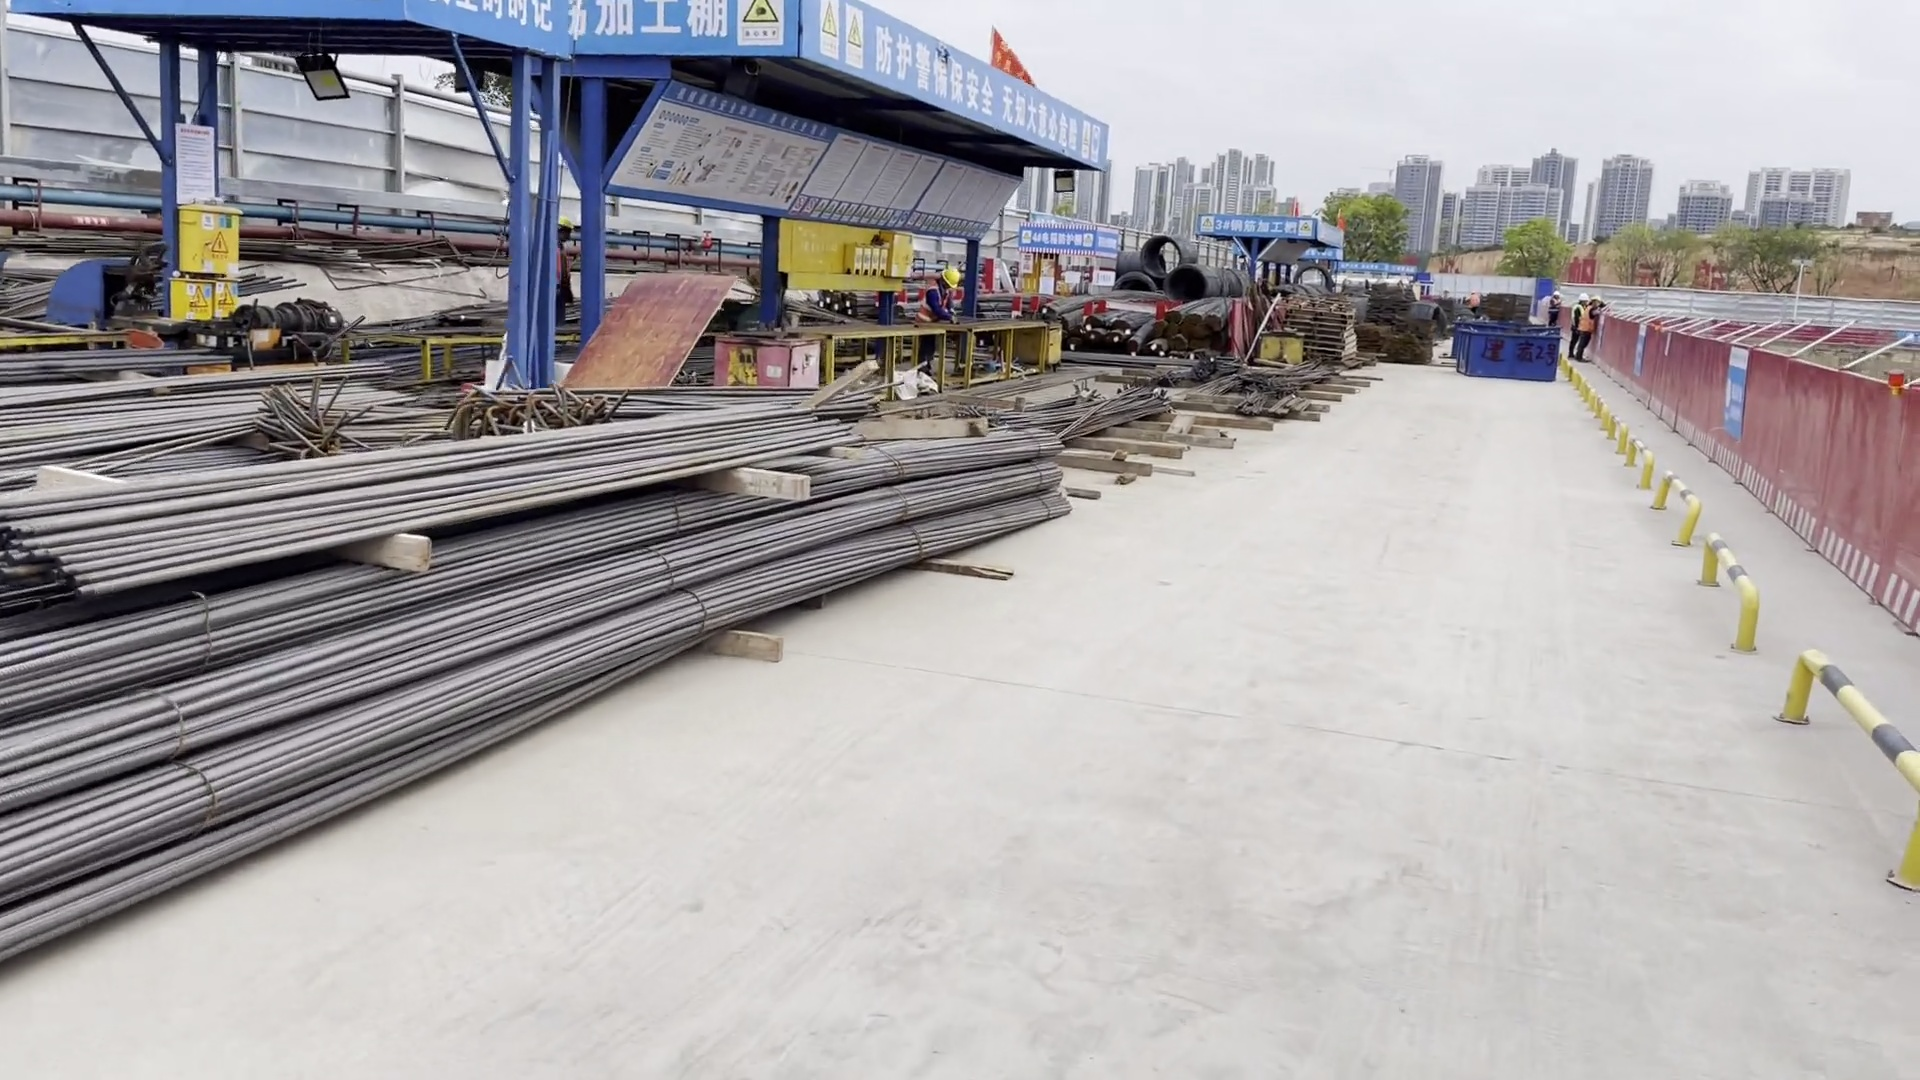ebox: (164, 200, 266, 331), (891, 227, 914, 282)
fence: (1571, 309, 1920, 637)
helmet: (940, 267, 960, 287), (557, 213, 575, 228), (1579, 293, 1588, 301), (1592, 296, 1602, 302), (1553, 291, 1559, 297), (1470, 291, 1474, 295)
hopper: (1444, 315, 1562, 386)
person: (548, 212, 575, 331), (915, 267, 967, 326), (1576, 296, 1608, 362), (1570, 293, 1589, 351), (1546, 291, 1562, 328), (1466, 291, 1479, 311)
rebar: (8, 409, 1080, 990), (8, 404, 874, 605), (1014, 386, 1166, 452), (1038, 289, 1174, 320), (1167, 297, 1211, 322), (1206, 298, 1238, 330), (1126, 318, 1154, 353), (1187, 301, 1220, 326), (1058, 309, 1087, 333), (1084, 311, 1119, 330), (1113, 313, 1143, 332), (1062, 335, 1086, 353), (1172, 333, 1199, 351), (1085, 330, 1107, 349), (1144, 337, 1167, 356), (1108, 330, 1128, 349)
slogan: (872, 19, 1110, 158)
vest: (915, 289, 949, 324), (556, 246, 570, 280), (1572, 306, 1585, 331), (1580, 307, 1594, 330), (1549, 298, 1560, 314), (1468, 296, 1478, 308)
